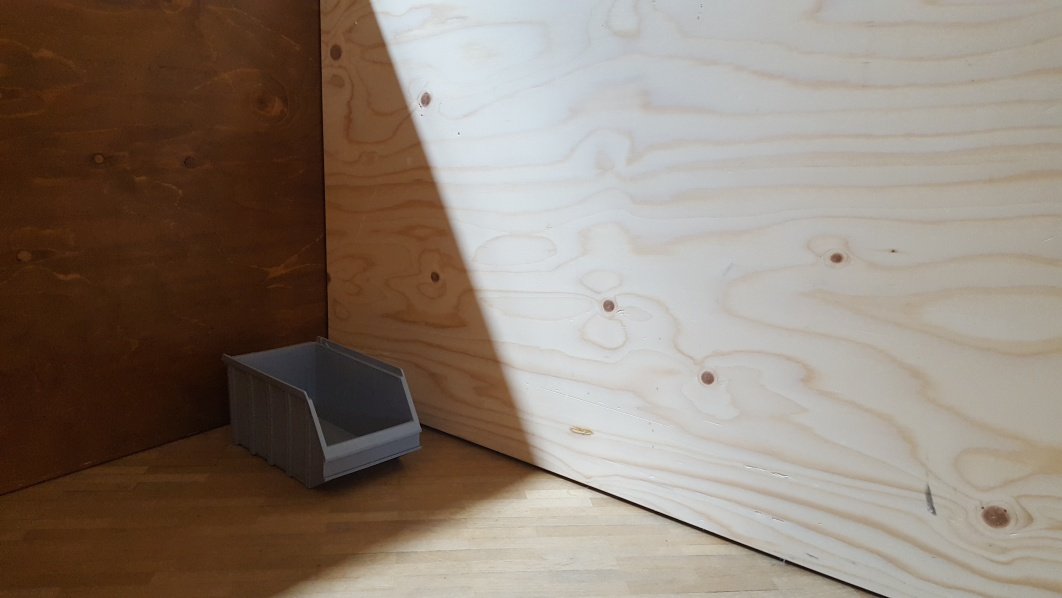tray: (218, 335, 425, 488)
